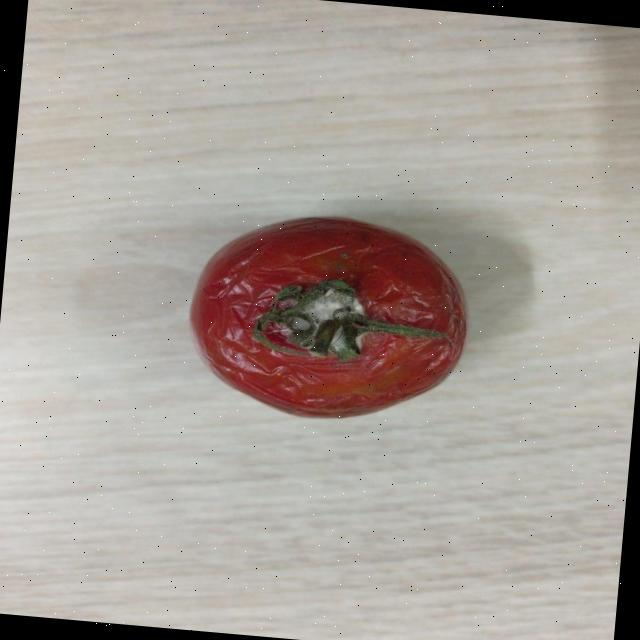Rotten: (182, 205, 476, 430)
